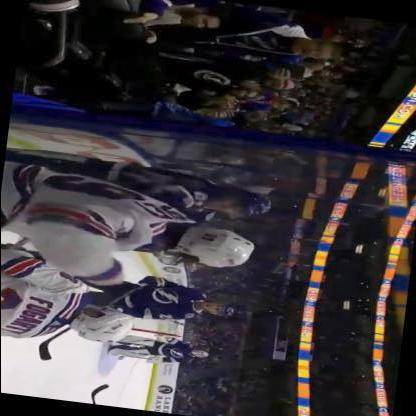non-Voilence: (167, 8, 344, 86), (128, 274, 233, 330), (108, 330, 214, 372)
voilence: (1, 147, 272, 305)
